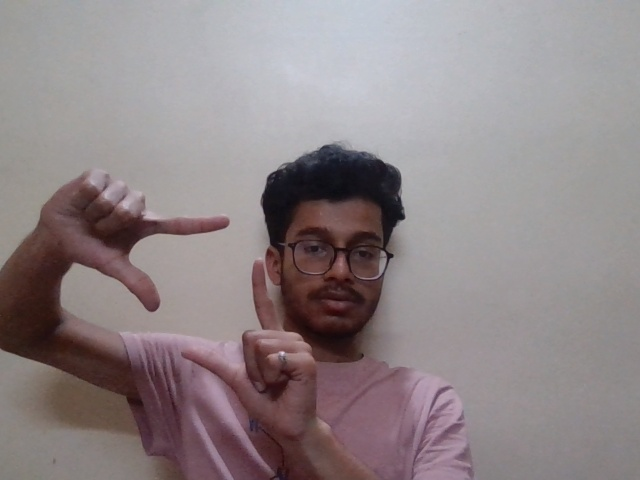video: (26, 158, 326, 425)
